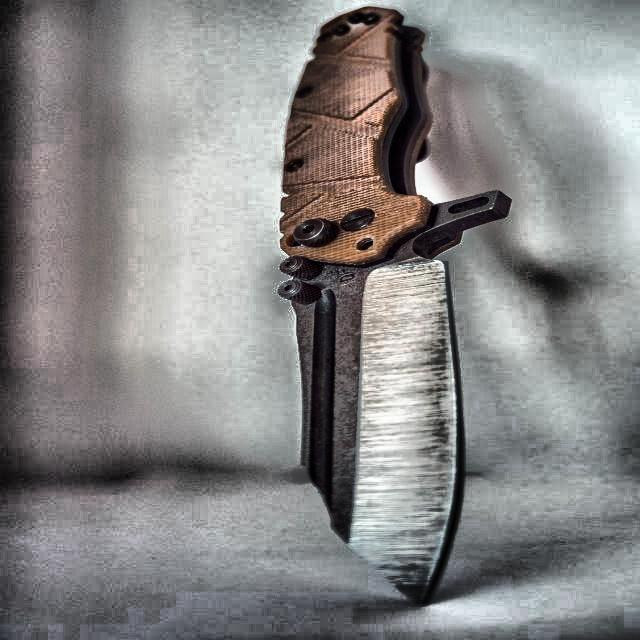knife: (276, 6, 516, 612)
